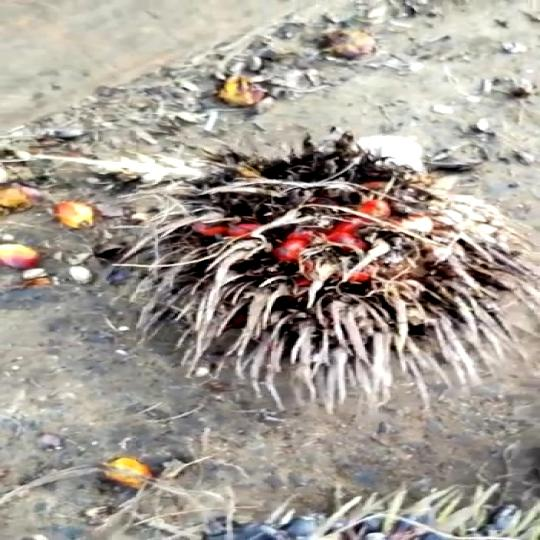terlalu masak: (93, 129, 540, 410)
